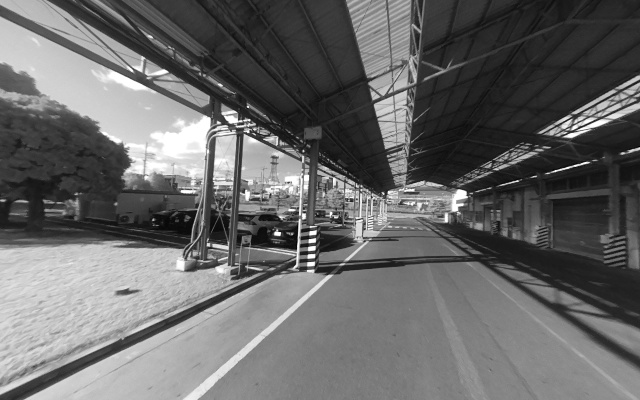bollard: (298, 224, 321, 274), (602, 233, 628, 274), (534, 224, 551, 248), (366, 213, 373, 233)
